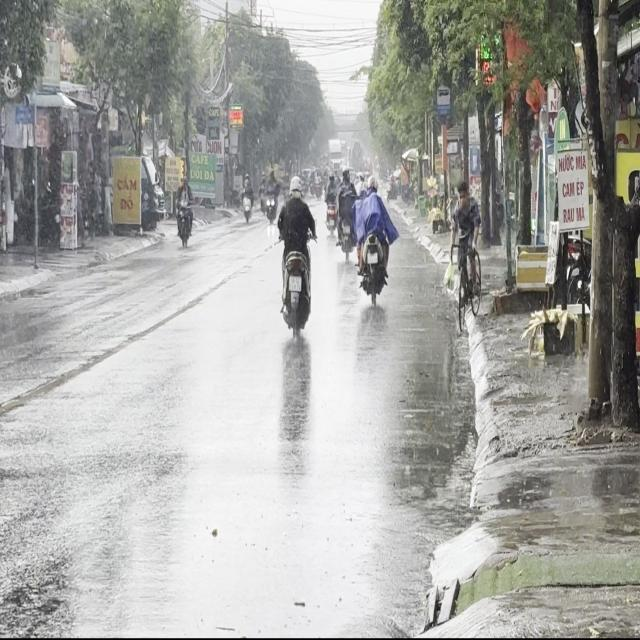helmet: (289, 175, 303, 197)
licenseplate: (275, 174, 316, 338)
nohelmet: (289, 276, 301, 291)
